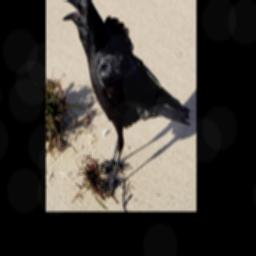Crow: (62, 0, 191, 200)
